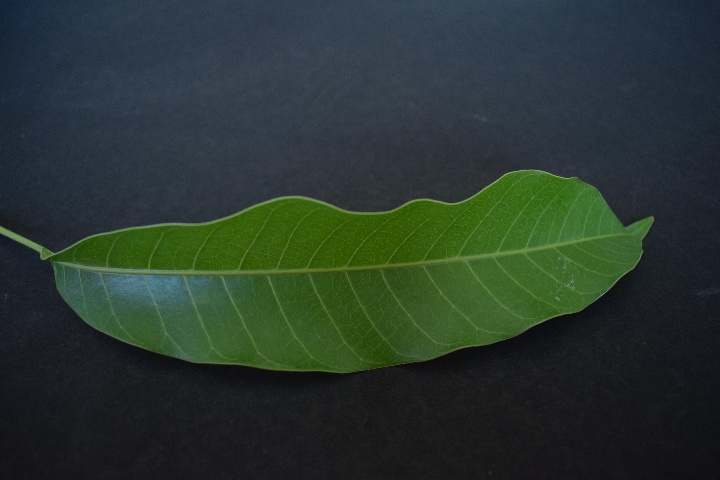healthy: (64, 168, 632, 378)
